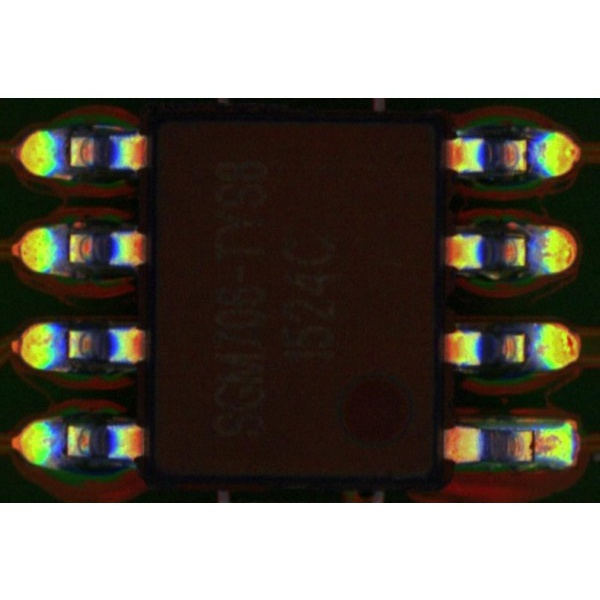Bad_podu: (524, 431, 549, 457)
